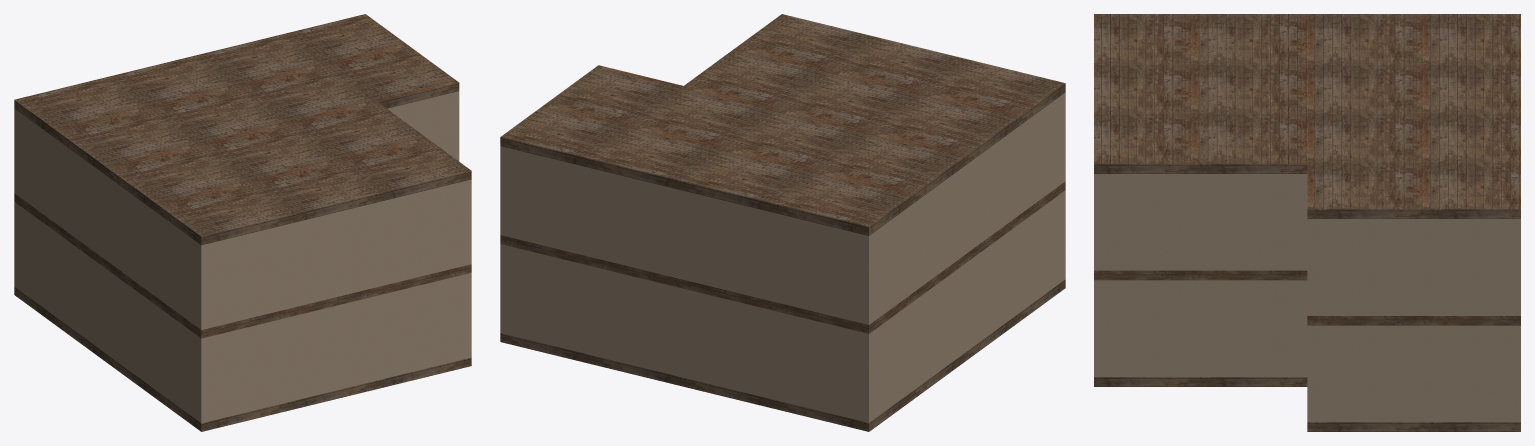
The model's file is house.glb.
3 renders of one model, left to right at view 1: azimuth 30°, elevation 25°; view 2: azimuth 150°, elevation 25°; view 3: azimuth 270°, elevation 25°, orthographic. The views are drawn at different scales.
Visible parts, largest first — view 1: Cube.015, Cube.003, Cube.008, Cube.002, Cube.007, Cube.004, Cube.009, Cube, Cube.010, Cube.001; view 2: Cube.015, Cube.009, Cube.004, Cube.001, Cube.006, Cube.003, Cube.008, Cube, Cube.010, Cube.012, Cube.013; view 3: Cube.015, Cube.006, Cube.001, Cube.007, Cube.002, Cube.014, Cube.011, Cube, Cube.010.
Boxes of the visible parts, x1,y1,x2,y2 form: Cube.015: (14,14,471,245); Cube.003: (108,177,336,329); Cube.008: (108,270,336,423); Cube.002: (336,179,471,296); Cube.007: (336,273,471,390); Cube.004: (14,108,107,261); Cube.009: (14,202,107,354); Cube: (14,193,471,338); Cube.010: (14,287,471,431); Cube.001: (387,91,459,161); Cube.015: (500,14,1065,235); Cube.009: (727,262,967,422); Cube.004: (727,164,967,324); Cube.001: (500,146,670,276); Cube.006: (500,244,670,374); Cube.003: (967,92,1065,252); Cube.008: (967,190,1065,350); Cube: (500,181,1065,333); Cube.010: (500,279,1065,431); Cube.012: (670,187,727,290); Cube.013: (670,285,727,388); Cube.015: (1094,14,1520,218); Cube.006: (1307,325,1520,422); Cube.001: (1307,219,1520,315); Cube.007: (1094,280,1236,377); Cube.002: (1094,174,1236,270); Cube.014: (1236,280,1307,377); Cube.011: (1236,174,1307,270); Cube: (1094,270,1520,325); Cube.010: (1094,377,1520,431).
Bounding box in the file's own units: 13 × 6.9 × 12.
Materials: 2 (2 with a texture image).
